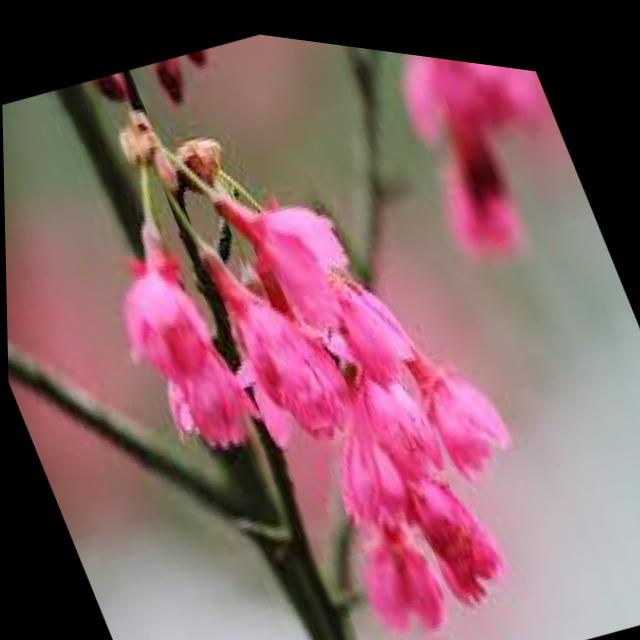Flower: (104, 96, 363, 466), (174, 91, 374, 356), (67, 126, 236, 387), (295, 365, 431, 539), (299, 241, 438, 411), (399, 324, 530, 489), (394, 471, 517, 609), (150, 333, 261, 462), (357, 353, 461, 481)
